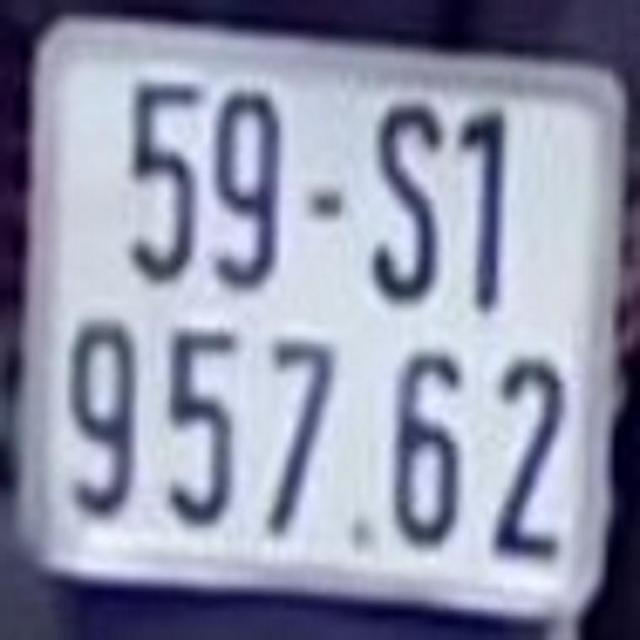1: (456, 100, 508, 314)
2: (492, 347, 570, 560)
5: (120, 72, 203, 290), (159, 315, 237, 528)
6: (388, 341, 465, 552)
7: (261, 332, 340, 542)
9: (62, 308, 140, 522), (209, 83, 284, 288)
S: (367, 86, 446, 312)
